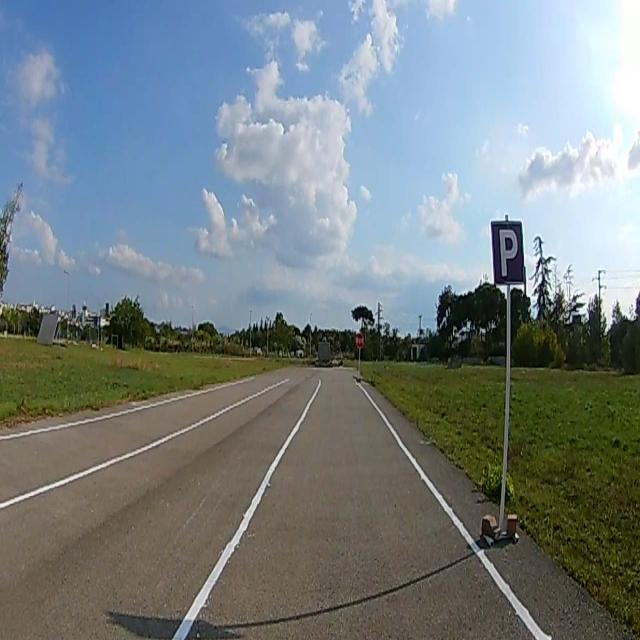park: (490, 220, 525, 284)
